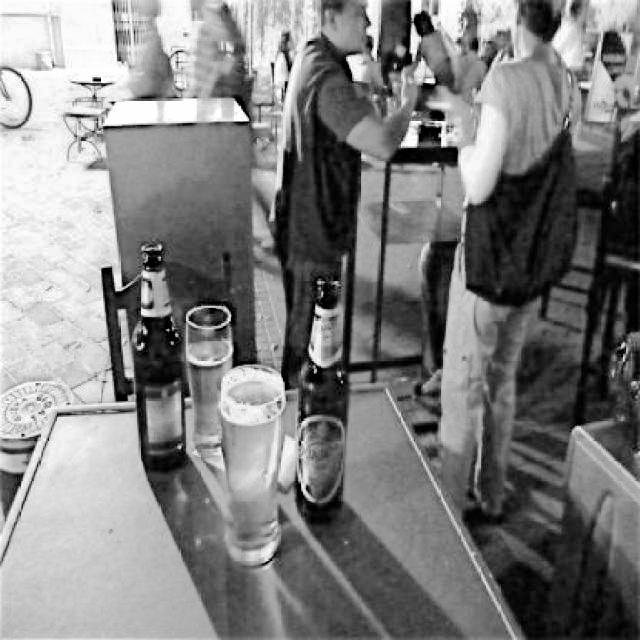Person: (425, 0, 588, 526), (271, 0, 420, 388)
